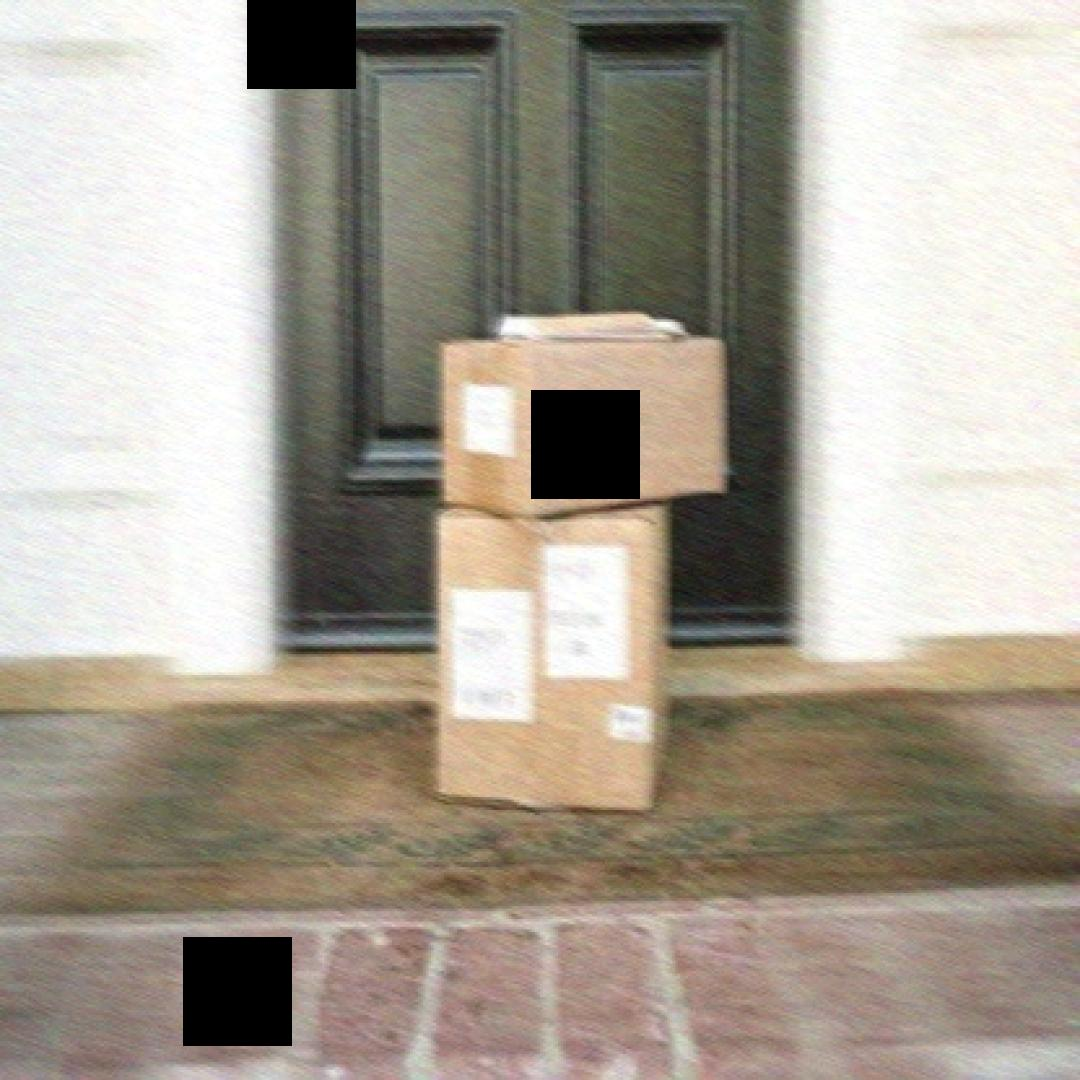package: (428, 499, 681, 828), (434, 322, 738, 511)
